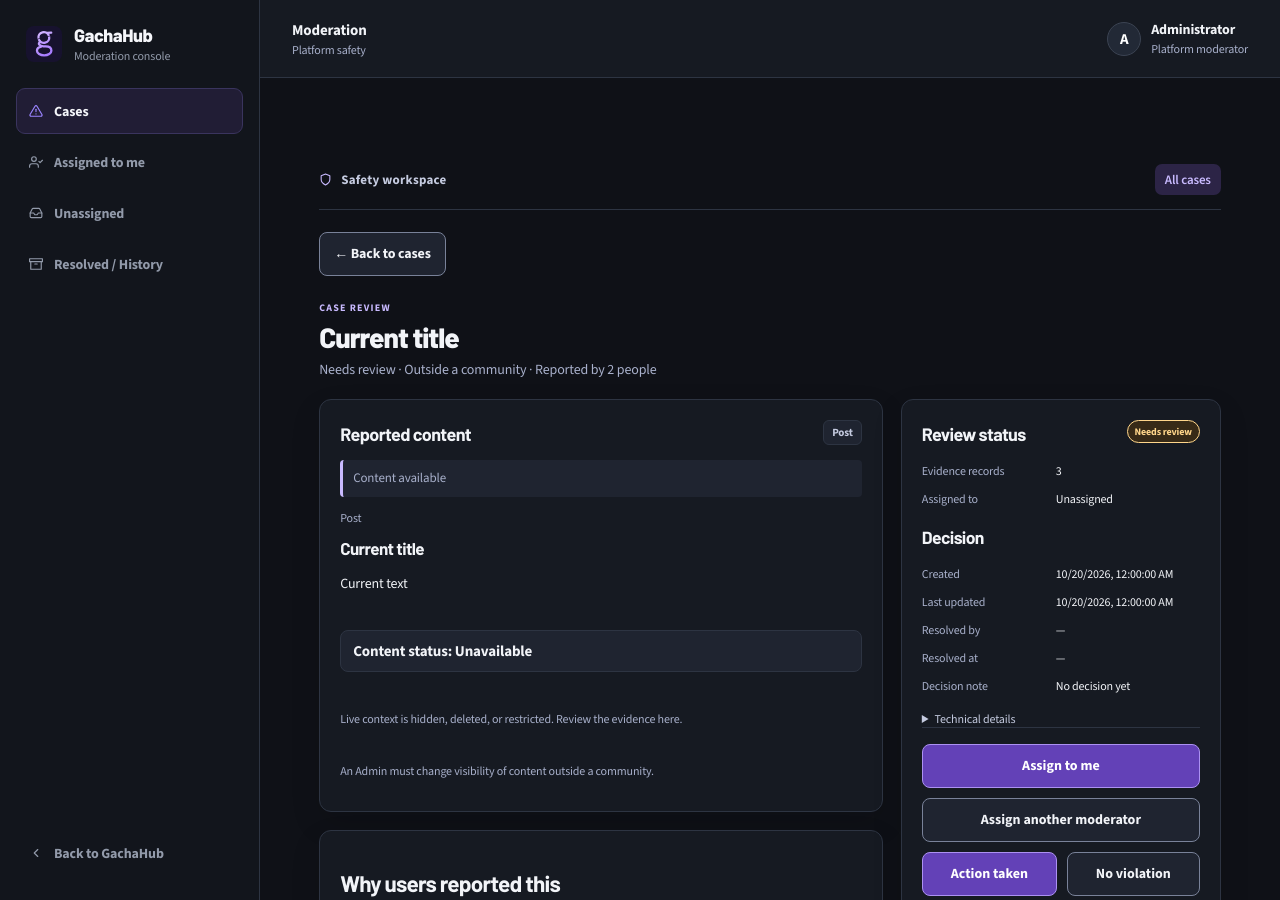
Test: keeps technical values selectable when clipboard permission is unavailable
The width and height of the screenshot is (1280, 900).
Click the heading "Technical details" at (975, 720), box [934,712,1015,728]
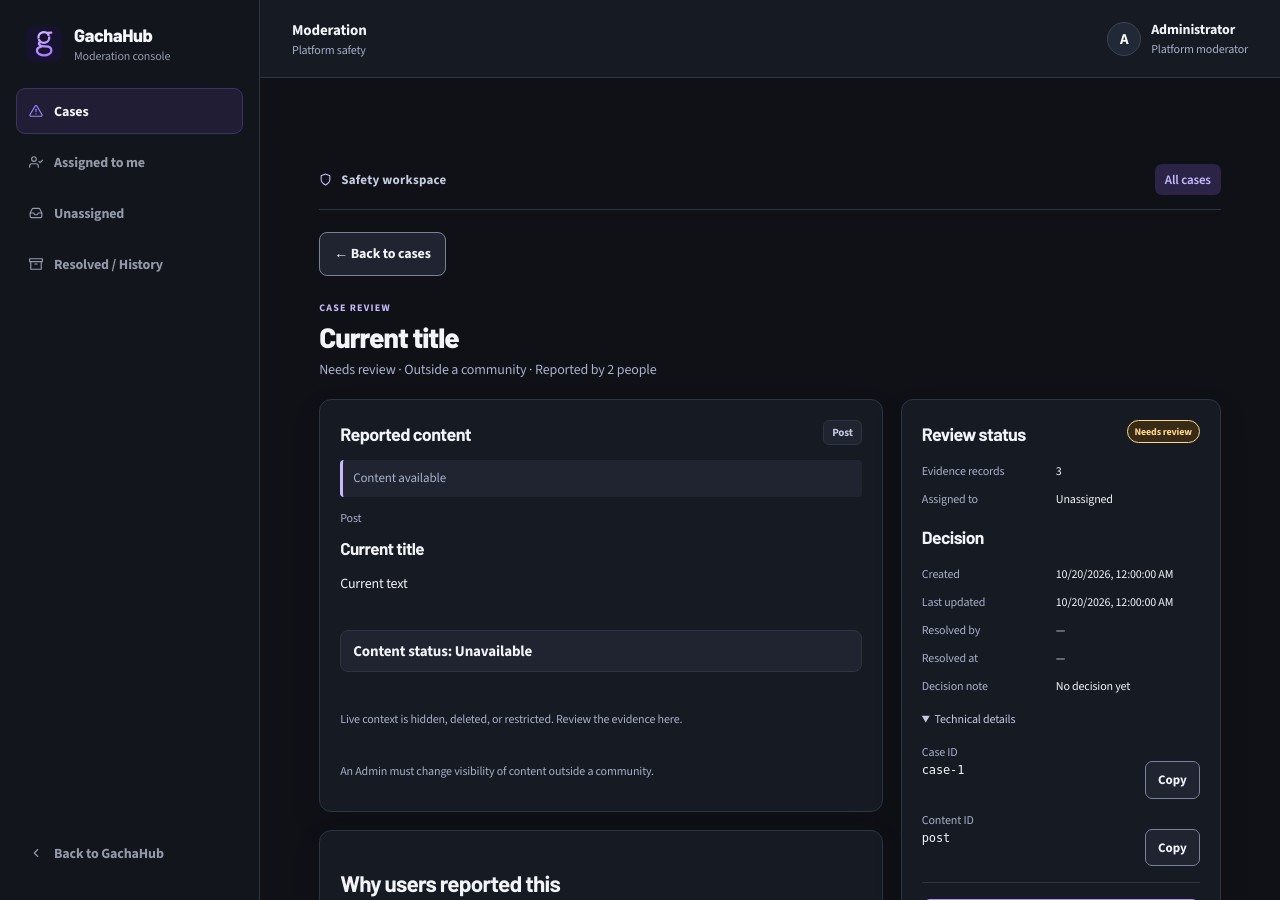
Click the button with aria-label "Copy case id" at (1172, 780), box [1145,762,1200,799]
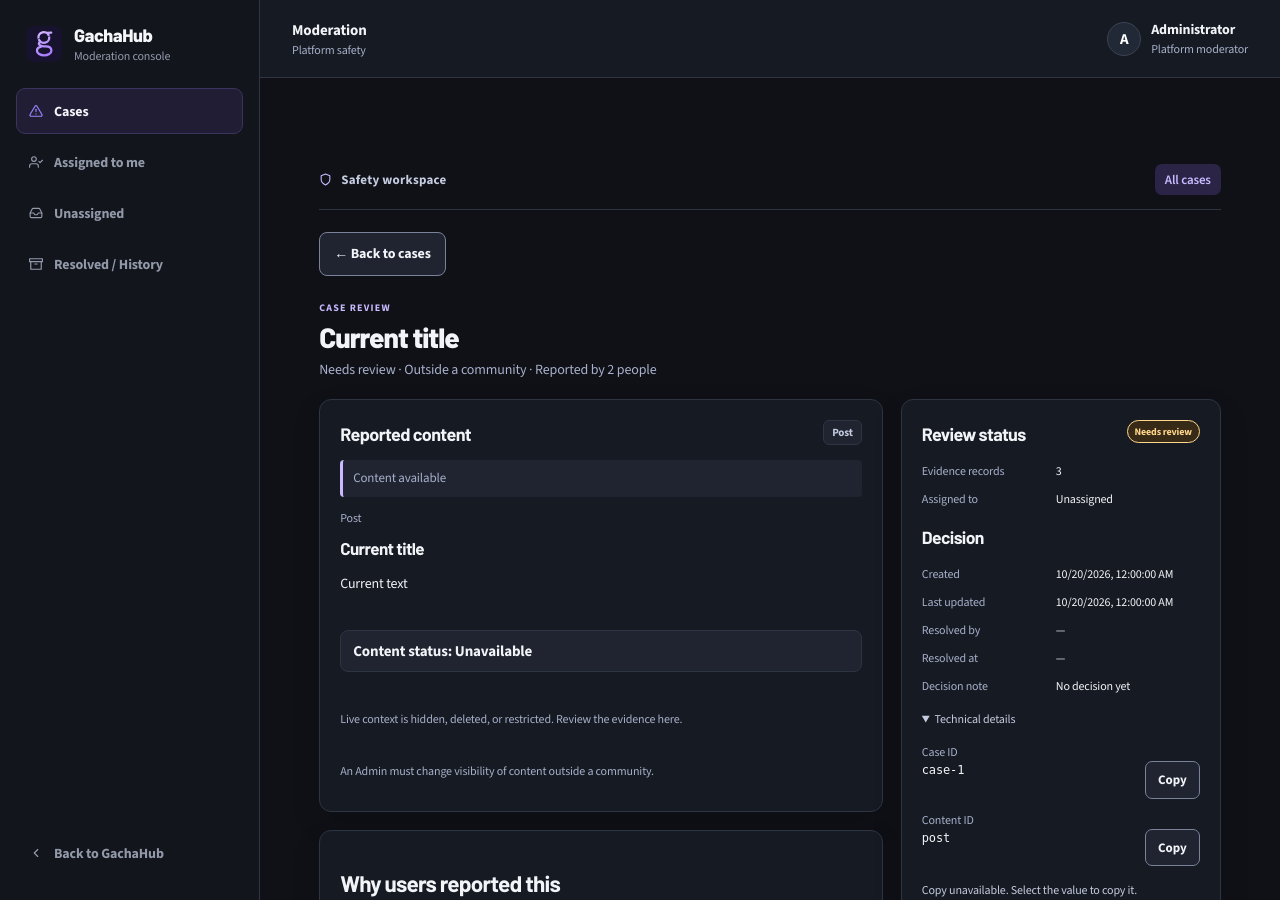
Expected: the text "case-1" is shown, [922,764,964,778]
Expected: the text "Copy unavailable. Select the value to copy it." is shown, [922,882,1137,898]
